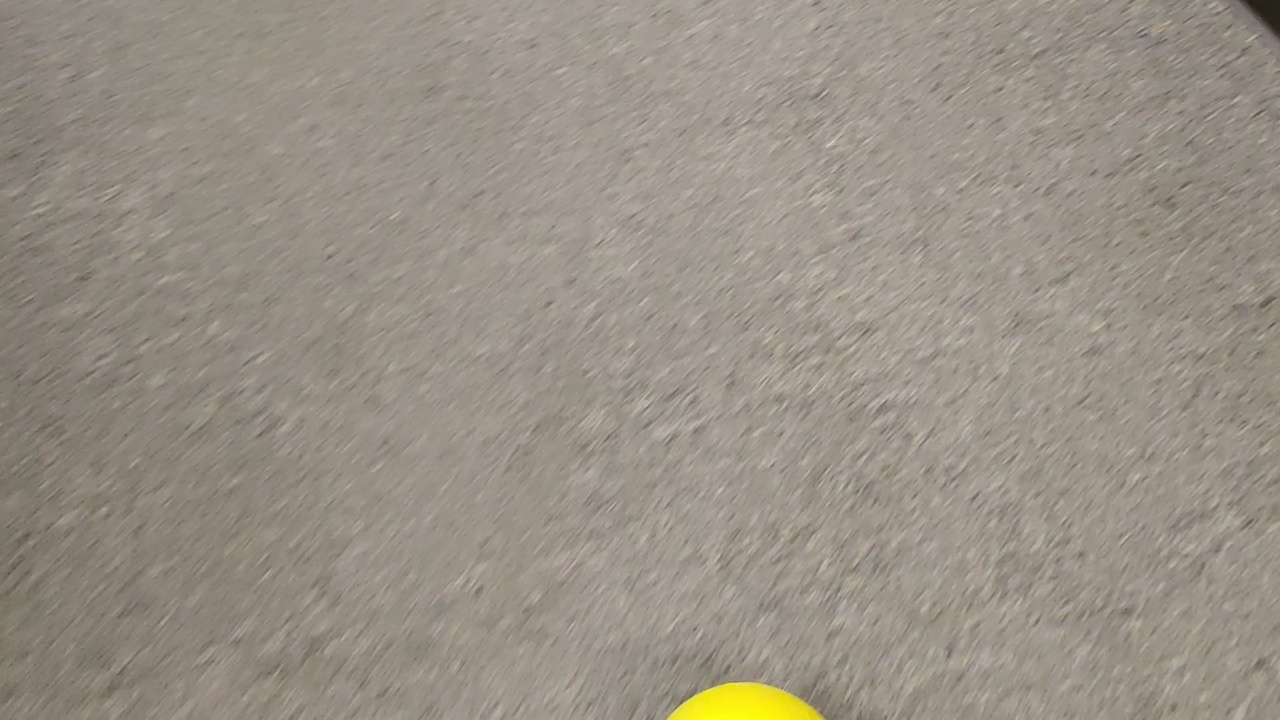Ball: (663, 682, 826, 719)
